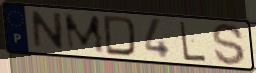4: (143, 16, 172, 63)
D: (102, 14, 139, 58)
L: (178, 20, 209, 63)
M: (61, 13, 107, 54)
N: (30, 10, 66, 52)
S: (210, 22, 247, 67)
